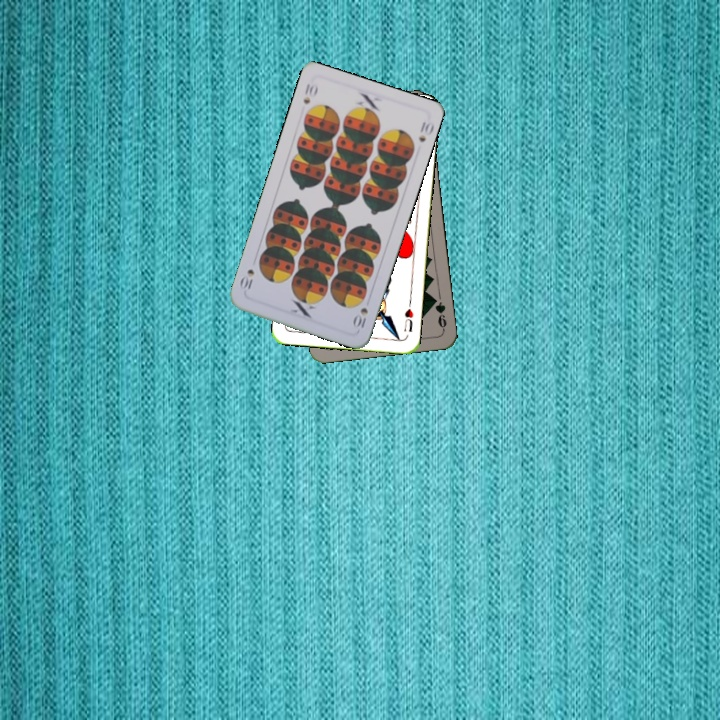G9: (428, 293, 449, 333)
HU: (400, 298, 416, 334)
S10: (349, 303, 370, 331), (299, 80, 320, 107)
